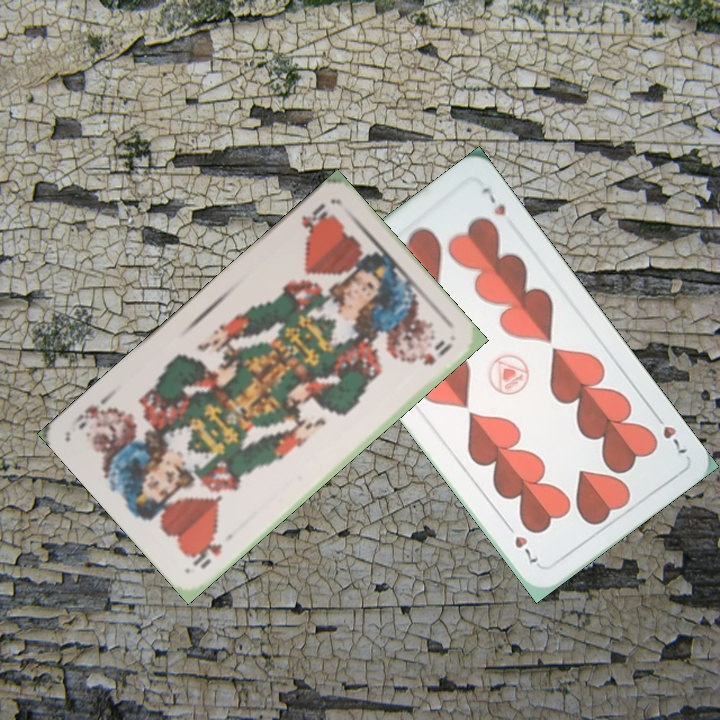H7: (649, 408, 691, 459)
HO: (297, 199, 335, 241), (188, 534, 225, 572)
